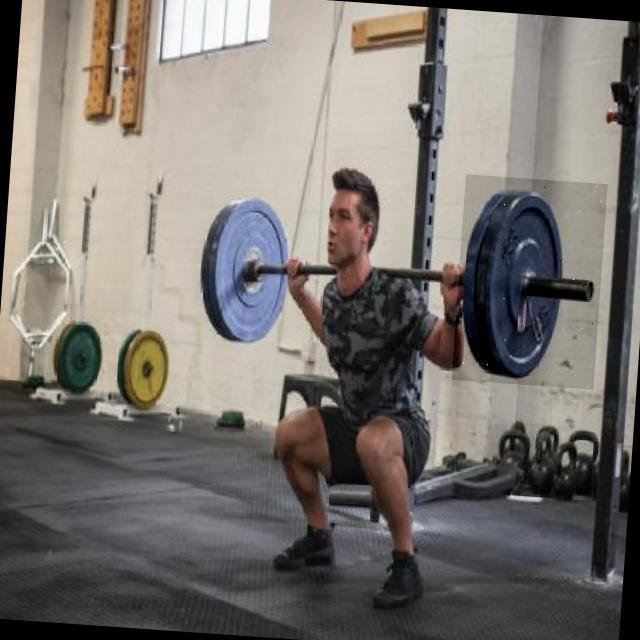barbell: (452, 175, 608, 390)
